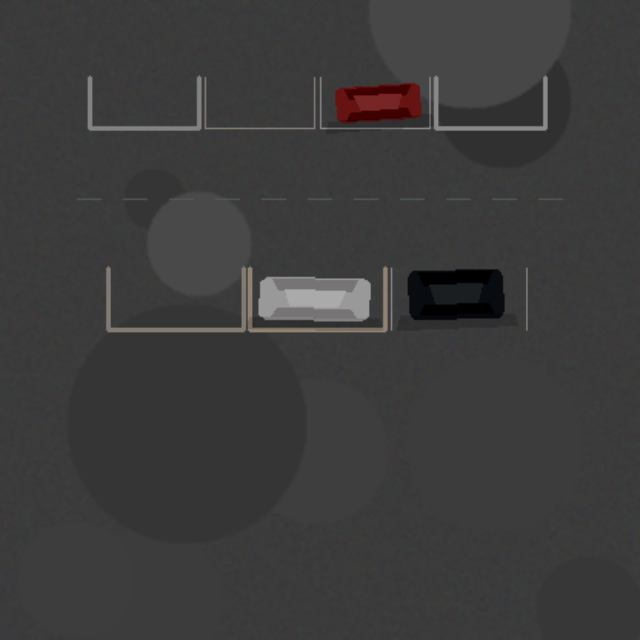space-empty: (108, 268, 243, 329), (435, 77, 545, 128), (89, 77, 198, 128), (205, 77, 314, 128)
space-occupied: (249, 268, 385, 329), (391, 268, 526, 329), (320, 77, 429, 128)
